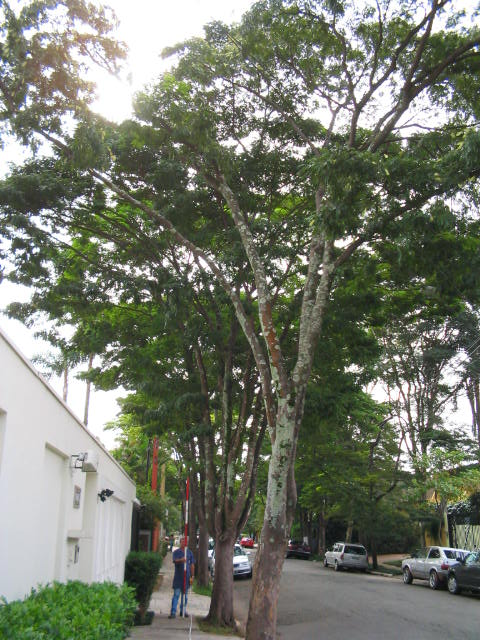stem: (200, 518, 243, 630)
stick: (174, 478, 200, 618)
tree: (2, 96, 474, 629)
